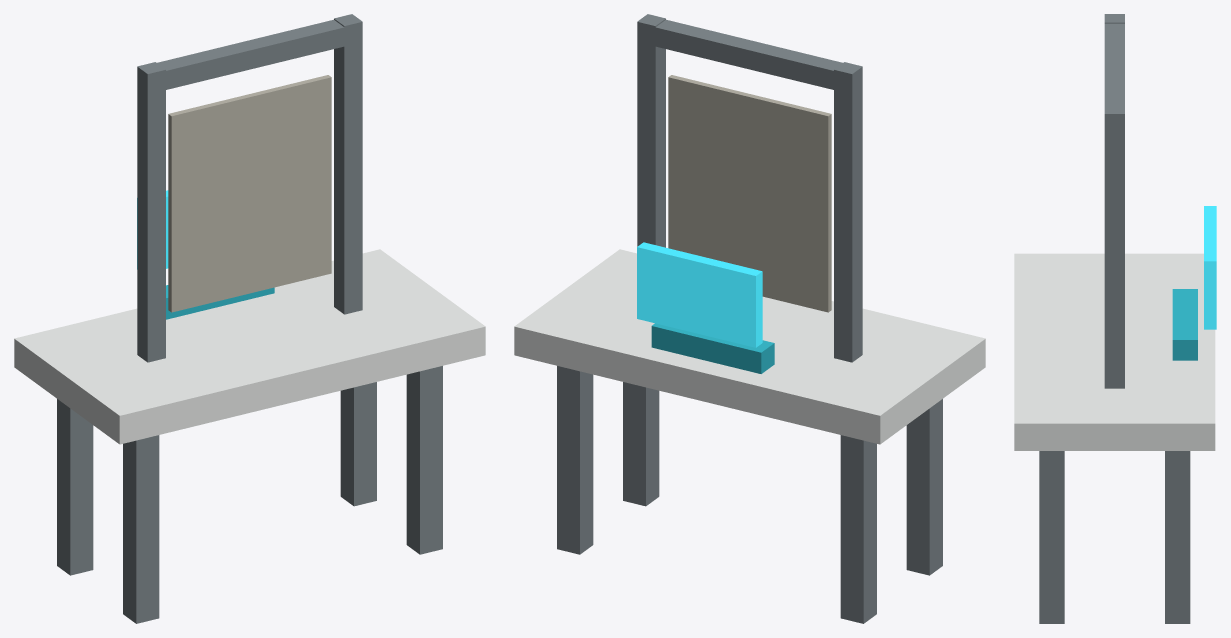
Rendered from gravifire_sibal_sample_station.glb.
3 renders of one model, left to right at view 1: azimuth 30°, elevation 25°; view 2: azimuth 150°, elevation 25°; view 3: azimuth 270°, elevation 25°, orthographic. The views are drawn at different scales.
Visible parts, largest first — view 1: worktop, sibal_sample, frame_l, frame_r, leg_-0.62_0.25, leg_0.62_0.25, leg_-0.62_-0.25, frame_top, leg_0.62_-0.25, sensor_bar; view 2: worktop, sibal_sample, sample_display, frame_l, leg_-0.62_-0.25, leg_0.62_-0.25, frame_r, leg_-0.62_0.25, frame_top, leg_0.62_0.25, sensor_bar; view 3: worktop, frame_r, leg_0.62_-0.25, leg_0.62_0.25, sensor_bar, frame_top, sample_display.
Part boxes in pixels (left/top/right/bottom): worktop: left=14, top=249, right=485, bottom=444; sibal_sample: left=168, top=75, right=331, bottom=312; frame_l: left=137, top=62, right=165, bottom=362; frame_r: left=334, top=14, right=362, bottom=314; leg_-0.62_0.25: left=123, top=435, right=159, bottom=623; leg_0.62_0.25: left=406, top=366, right=442, bottom=554; leg_-0.62_-0.25: left=57, top=399, right=93, bottom=575; frame_top: left=137, top=19, right=362, bottom=94; leg_0.62_-0.25: left=340, top=382, right=376, bottom=506; sensor_bar: left=166, top=285, right=274, bottom=319; worktop: left=514, top=249, right=985, bottom=444; sibal_sample: left=668, top=75, right=831, bottom=312; sample_display: left=637, top=242, right=762, bottom=347; frame_l: left=834, top=62, right=862, bottom=362; leg_-0.62_-0.25: left=840, top=435, right=876, bottom=623; leg_0.62_-0.25: left=557, top=366, right=593, bottom=554; frame_r: left=637, top=14, right=665, bottom=247; leg_-0.62_0.25: left=906, top=399, right=942, bottom=575; frame_top: left=637, top=19, right=860, bottom=94; leg_0.62_0.25: left=623, top=382, right=659, bottom=506; sensor_bar: left=651, top=323, right=774, bottom=373; worktop: left=1014, top=253, right=1215, bottom=450; frame_r: left=1104, top=105, right=1124, bottom=388; leg_0.62_-0.25: left=1165, top=451, right=1190, bottom=623; leg_0.62_0.25: left=1039, top=451, right=1064, bottom=623; sensor_bar: left=1172, top=289, right=1197, bottom=360; frame_top: left=1104, top=23, right=1124, bottom=132; sample_display: left=1204, top=206, right=1216, bottom=329.
Size of the model in its own units: 1.6 by 2.14 by 0.805.
